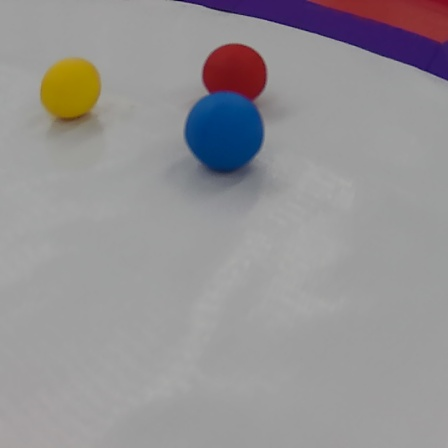blue: (184, 96, 267, 172)
red: (201, 41, 272, 116)
yellow: (37, 56, 103, 125)
